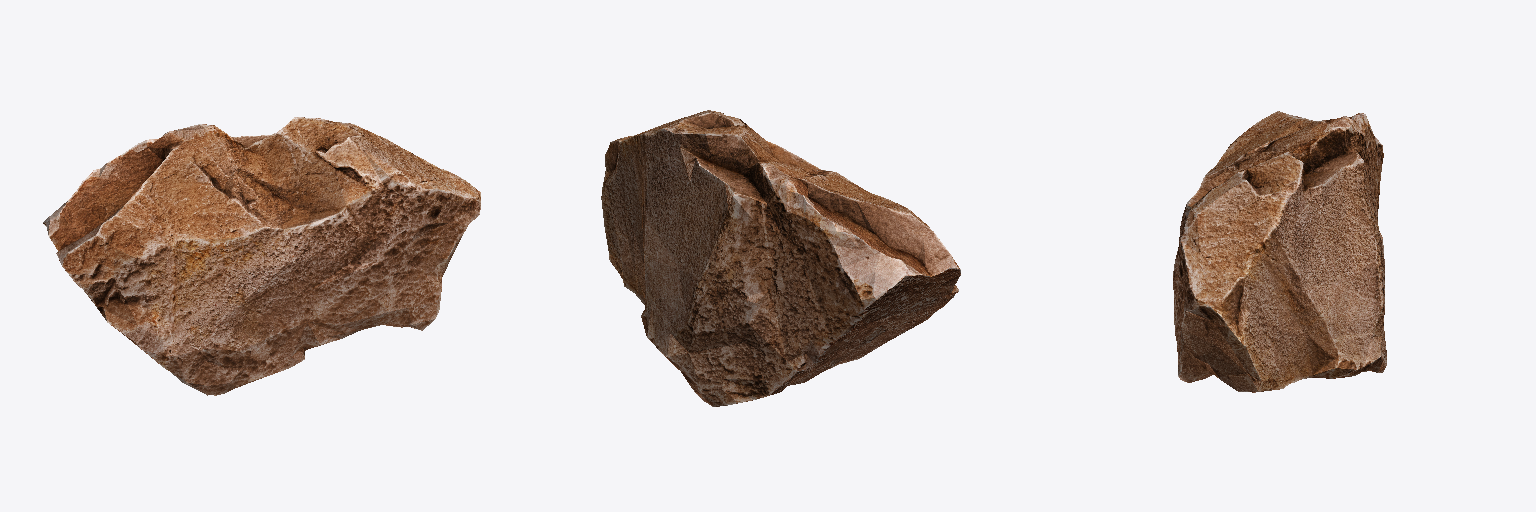
3 views of the same model, side by side, from view 1: azimuth 30°, elevation 25°; view 2: azimuth 150°, elevation 25°; view 3: azimuth 270°, elevation 25° (orthographic).
Visible parts, largest first — view 1: Rock_04_LOD0_Rock_04_LOD0.001; view 2: Rock_04_LOD0_Rock_04_LOD0.001; view 3: Rock_04_LOD0_Rock_04_LOD0.001.
Part boxes in pixels (bbox=[...]): Rock_04_LOD0_Rock_04_LOD0.001: bbox=[43, 117, 480, 395]; Rock_04_LOD0_Rock_04_LOD0.001: bbox=[601, 110, 960, 406]; Rock_04_LOD0_Rock_04_LOD0.001: bbox=[1173, 111, 1386, 392].
Bounding box in the file's own units: 6.29 × 3.69 × 3.03.
1 materials, 1 textured.